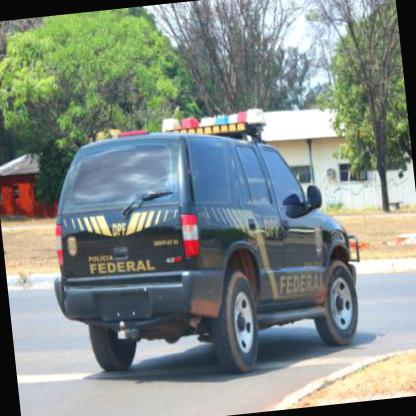car: (36, 108, 373, 402)
